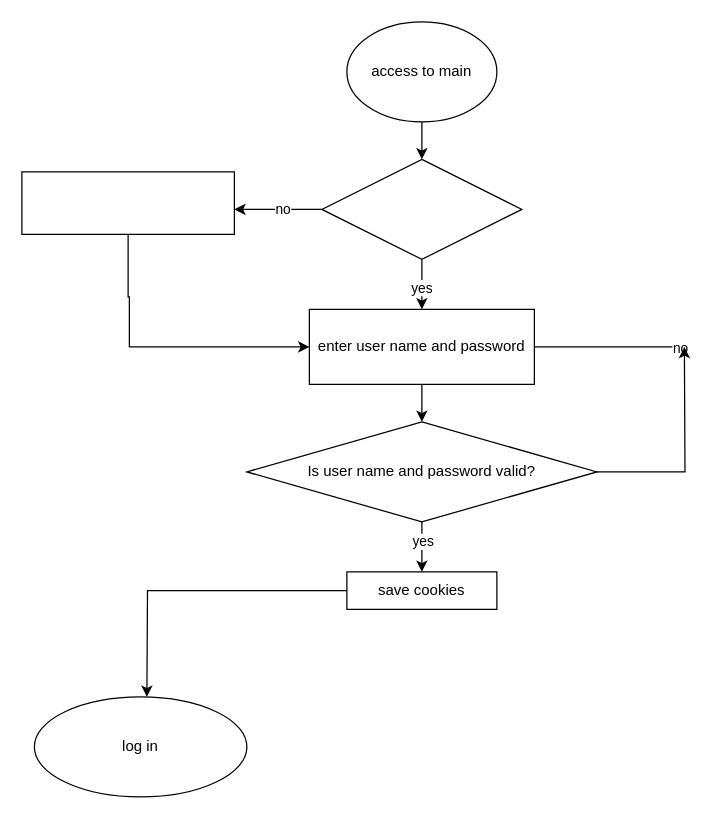
This 718x819 diagram has some shape labels left out. Each missing label, with the centre of its shape:
"account exist" goes at pixel 421 208.
"Register" goes at pixel 127 202.
